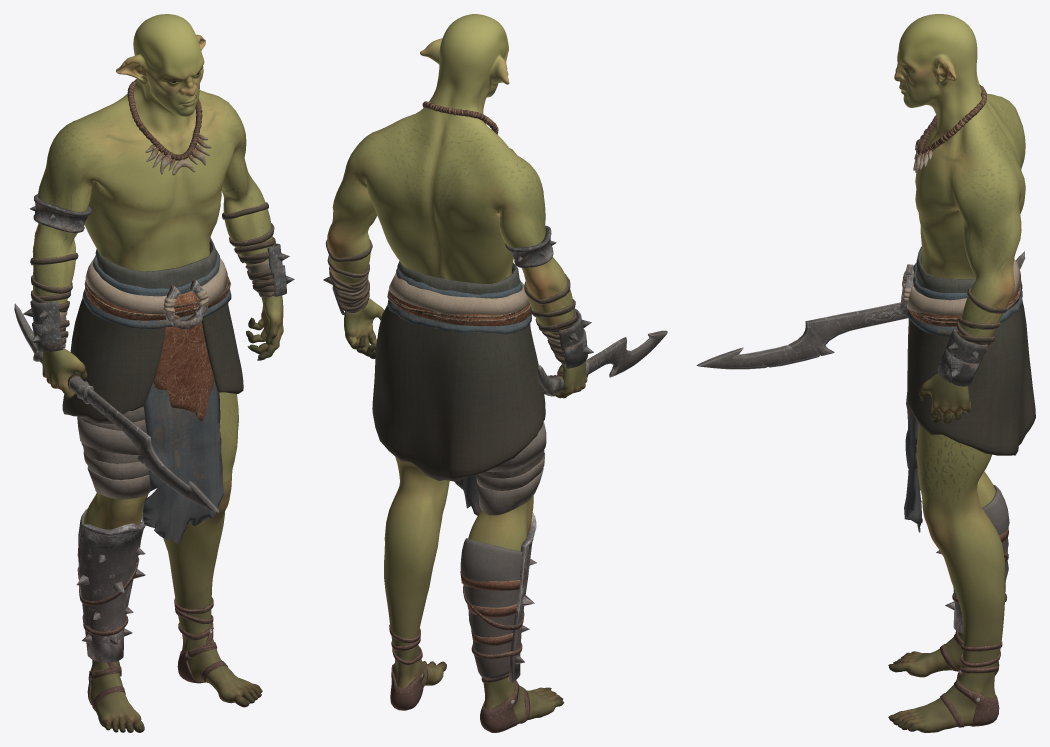
The model's file is goblin.glb.
The picture shows the model from 3 angles, left to right: view 1: azimuth 30°, elevation 25°; view 2: azimuth 150°, elevation 25°; view 3: azimuth 270°, elevation 25°; orthographic projection.
Parts seen in each view (by area): view 1: GOBLIN, SWORD; view 2: GOBLIN, SWORD; view 3: GOBLIN, SWORD.
Boxes of the visible parts, x1,y1,x2,y2 form: GOBLIN: (23, 14, 294, 732); SWORD: (14, 303, 218, 512); GOBLIN: (323, 14, 593, 732); SWORD: (537, 330, 667, 396); GOBLIN: (888, 14, 1035, 732); SWORD: (696, 251, 1025, 369).
Bounding box in the file's own units: 0.7399 × 1.86 × 0.8376.
Materials: 4 (4 with a texture image).
